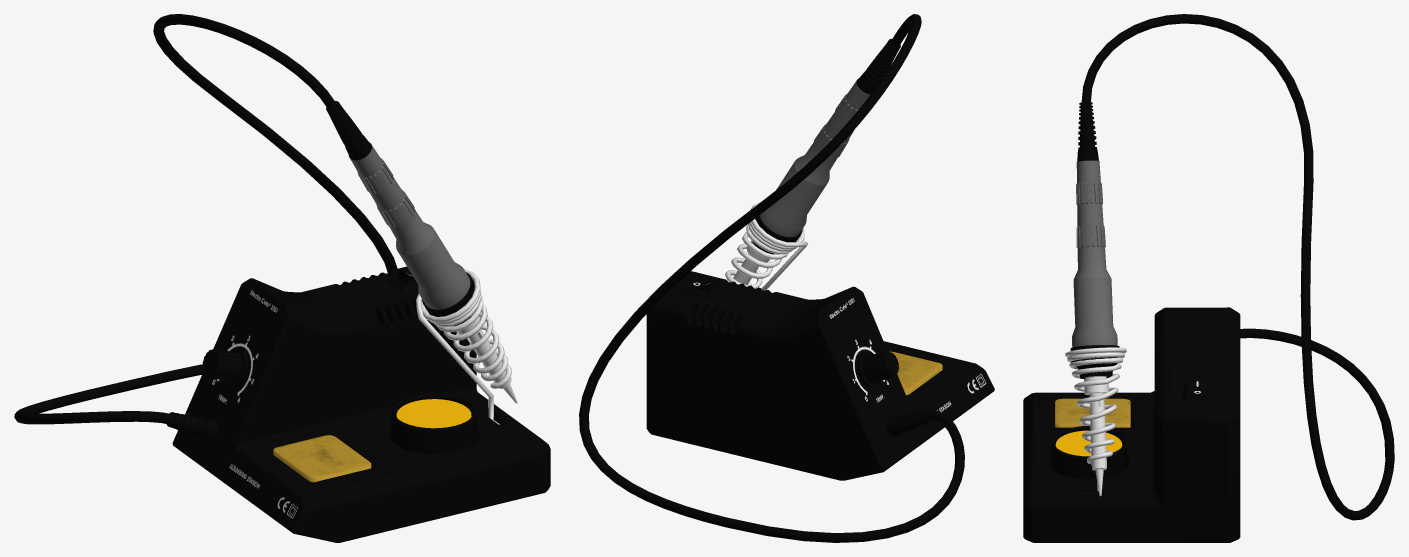
3 renders of one model, left to right at view 1: azimuth 30°, elevation 25°; view 2: azimuth 150°, elevation 25°; view 3: azimuth 270°, elevation 25°, orthographic. The views are drawn at different scales.
Visible parts, largest first — view 1: Soldering Station_15, Cable.001_5, Iron_7, Iron Holder.001_11, Sponge_12, Brass Holder_1, Sponge Holder_13, Brass_0, Temperature Knob_14, Cylinder.001_10; view 2: Soldering Station_15, Cable.001_5, Iron_7, Iron Holder.001_11, Sponge_12, Temperature Knob_14, Sponge Holder_13, Cylinder.001_10; view 3: Soldering Station_15, Cable.001_5, Iron_7, Iron Holder.001_11, Brass Holder_1, Sponge Holder_13, Sponge_12, Brass_0, Cylinder_8.
Part boxes in pixels (box(x1,y1,x2,y2)): Soldering Station_15: box(172, 266, 550, 542); Cable.001_5: box(14, 14, 397, 424); Iron_7: box(326, 101, 517, 403); Iron Holder.001_11: box(416, 269, 511, 424); Sponge_12: box(273, 435, 371, 482); Brass Holder_1: box(391, 394, 476, 453); Sponge Holder_13: box(249, 425, 395, 491); Brass_0: box(396, 399, 471, 428); Temperature Knob_14: box(202, 349, 248, 387); Cylinder.001_10: box(166, 412, 217, 441); Soldering Station_15: box(646, 271, 994, 480); Cable.001_5: box(579, 14, 964, 542); Iron_7: box(733, 39, 900, 284); Iron Holder.001_11: box(725, 202, 808, 290); Sponge_12: box(890, 351, 942, 395); Temperature Knob_14: box(857, 352, 898, 387); Sponge Holder_13: box(884, 343, 964, 403); Cylinder.001_10: box(886, 409, 933, 436); Soldering Station_15: box(1023, 307, 1240, 542); Cable.001_5: box(1081, 14, 1394, 520); Iron_7: box(1072, 102, 1117, 496); Iron Holder.001_11: box(1065, 347, 1126, 491); Brass Holder_1: box(1051, 426, 1126, 479); Sponge Holder_13: box(1039, 393, 1146, 432); Sponge_12: box(1055, 398, 1130, 427); Brass_0: box(1055, 430, 1122, 456); Cylinder_8: box(1070, 345, 1119, 378).
Size of the model in its own units: 0.209 by 0.2445 by 0.195.
8 materials, 3 textured.
